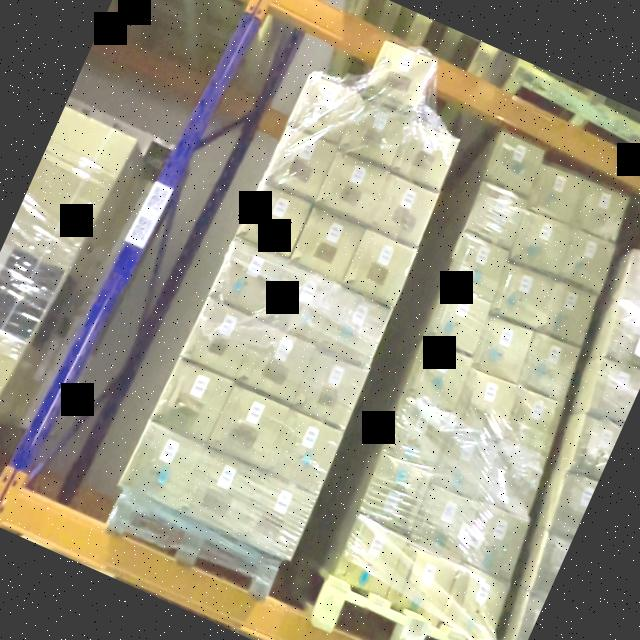box: (122, 419, 206, 508), (234, 472, 318, 560), (178, 447, 261, 532), (152, 357, 234, 443), (206, 384, 286, 469), (181, 296, 261, 381), (264, 408, 344, 492), (210, 237, 288, 319), (291, 349, 368, 432), (238, 322, 316, 400), (316, 289, 392, 369), (342, 228, 418, 306), (264, 264, 339, 342), (334, 518, 408, 596), (291, 206, 365, 282), (238, 182, 312, 258), (360, 454, 432, 532), (265, 126, 339, 201), (460, 503, 530, 582), (387, 544, 459, 620), (476, 441, 545, 518), (316, 150, 388, 223), (403, 340, 474, 414), (440, 565, 510, 640), (449, 366, 518, 442), (408, 486, 478, 560), (367, 174, 438, 246), (339, 96, 410, 168), (289, 73, 360, 145), (383, 396, 452, 469), (365, 39, 435, 110), (424, 284, 492, 356), (392, 120, 458, 190), (488, 260, 554, 330), (464, 183, 530, 251), (432, 428, 496, 498), (445, 234, 509, 300), (517, 332, 579, 399), (508, 210, 570, 276), (554, 228, 616, 292), (472, 316, 532, 382), (536, 278, 596, 344), (501, 387, 561, 453), (526, 162, 586, 225), (486, 132, 545, 195), (572, 181, 630, 241)
